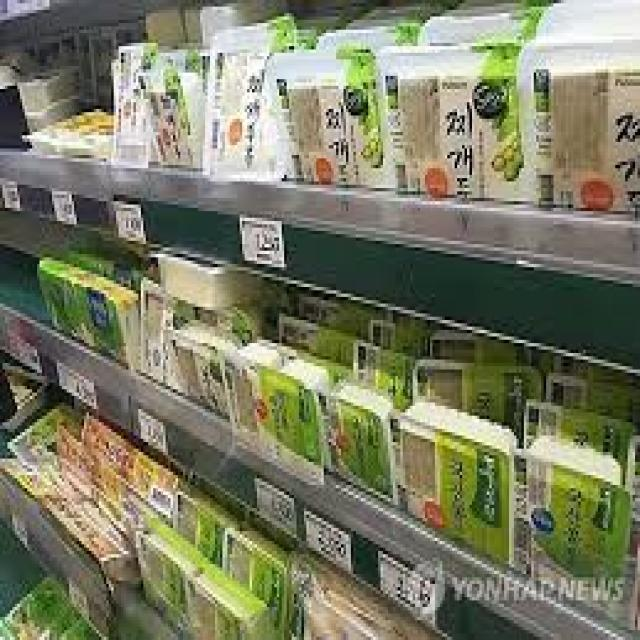tofu: (382, 39, 544, 216)
